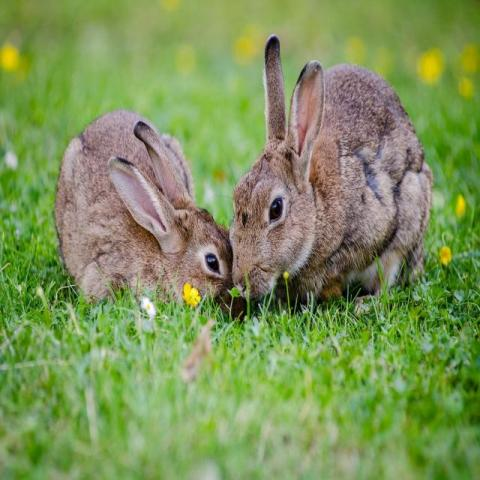small_animal: (227, 33, 435, 310), (51, 107, 236, 312)
